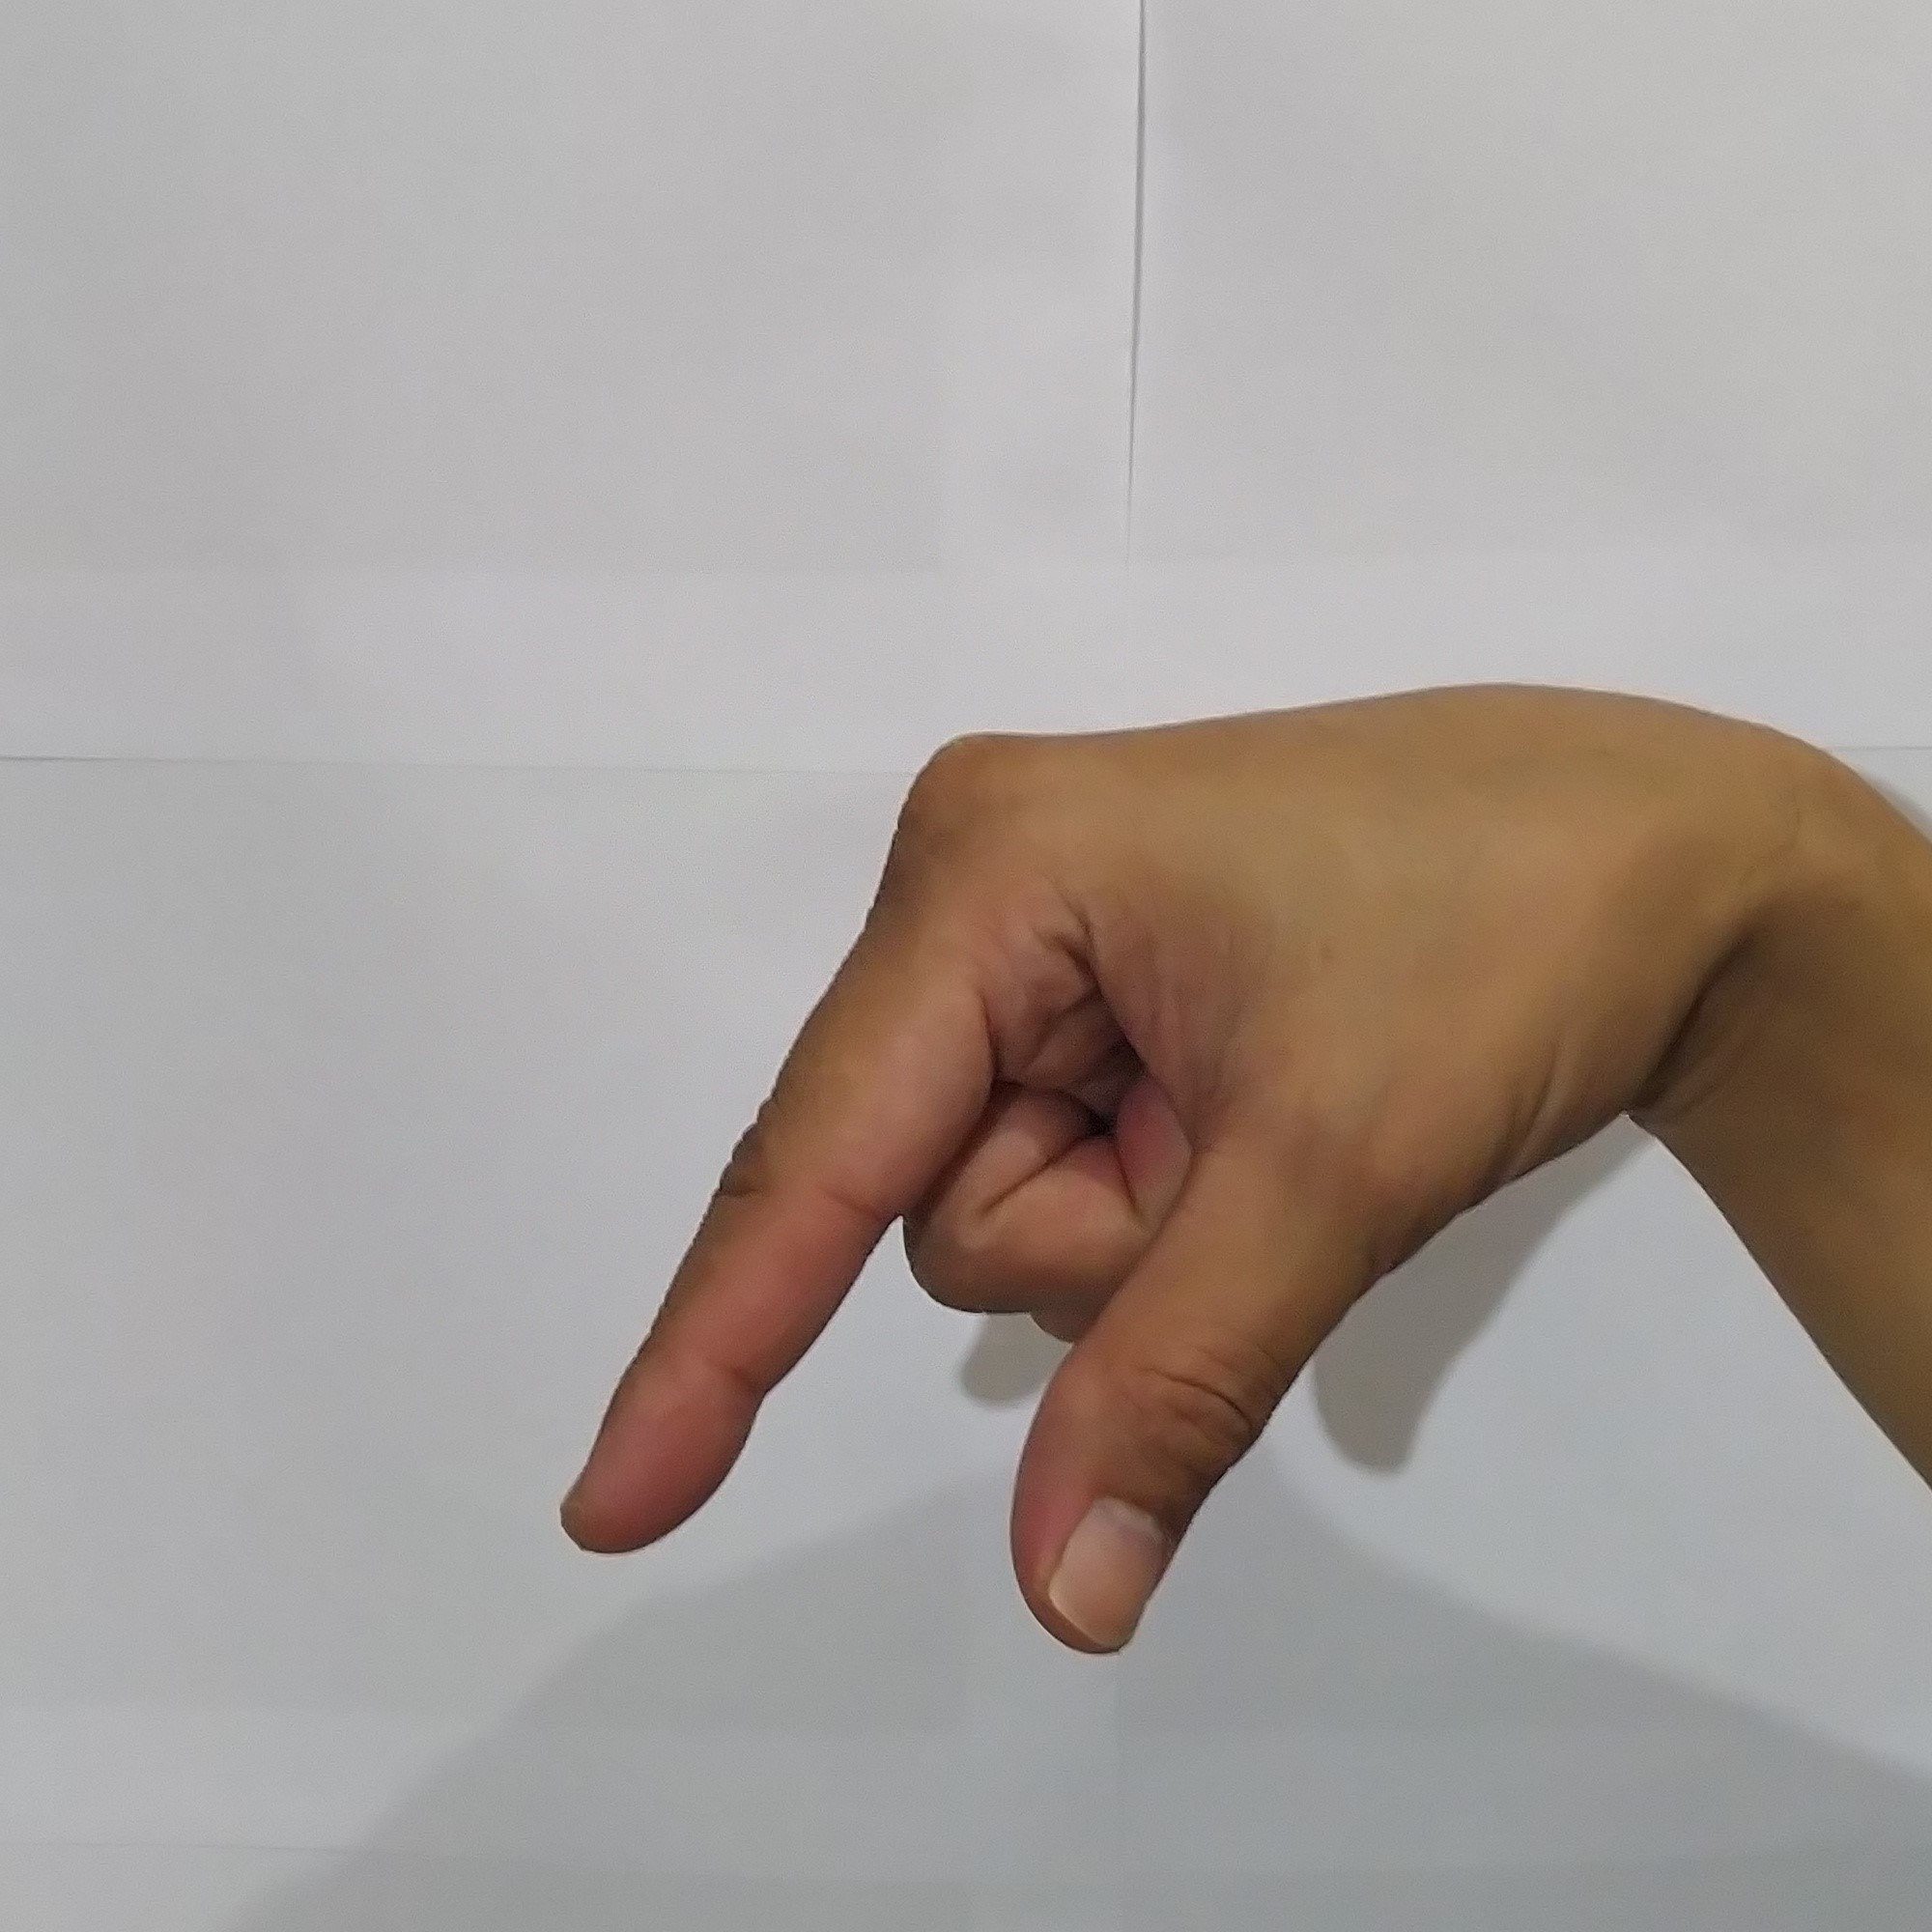Q: (520, 674, 1665, 1721)
